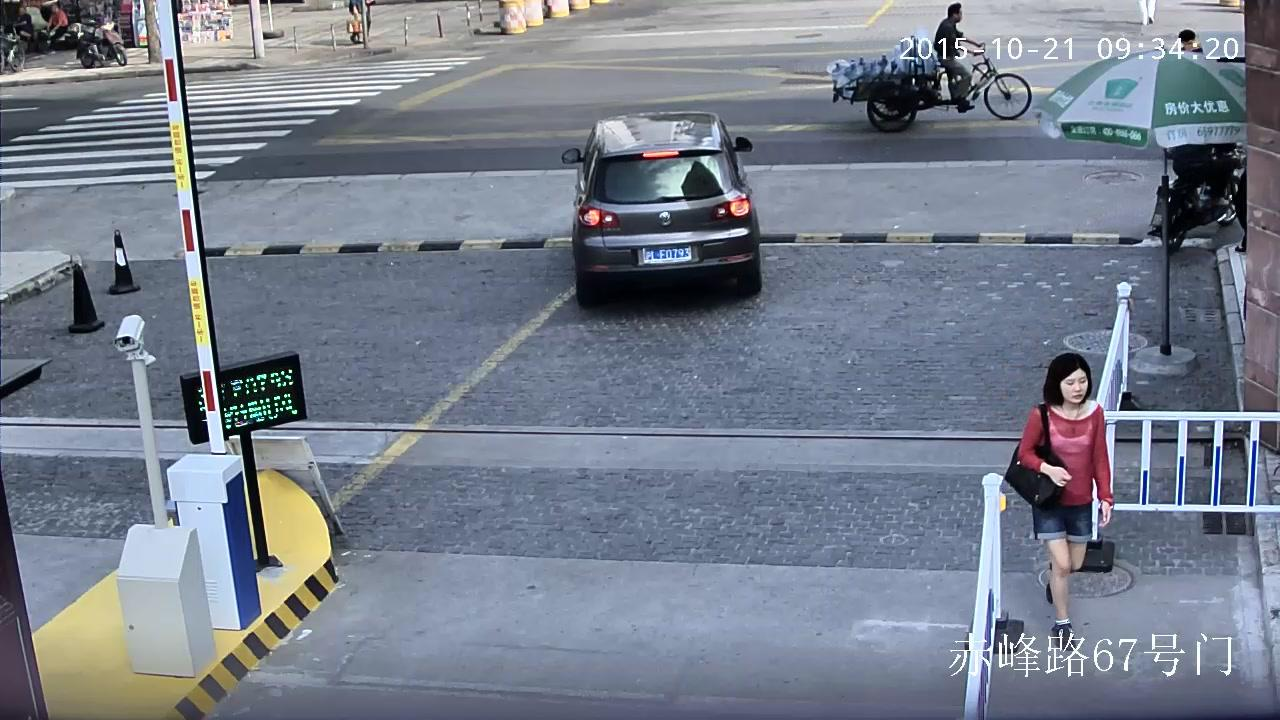person: (1002, 351, 1115, 653), (928, 3, 1032, 120), (1146, 145, 1239, 254), (933, 3, 981, 111), (1172, 145, 1234, 206), (348, 0, 372, 45), (47, 6, 68, 56), (348, 0, 370, 44), (15, 8, 32, 53)
